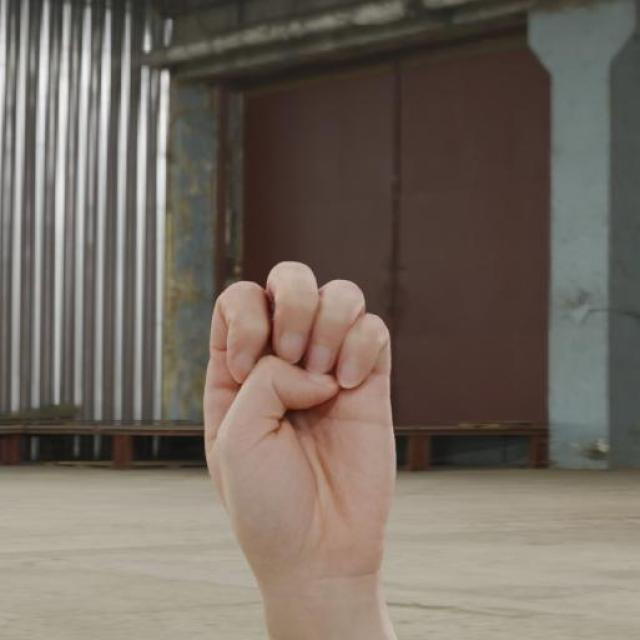E: (200, 256, 401, 584)
